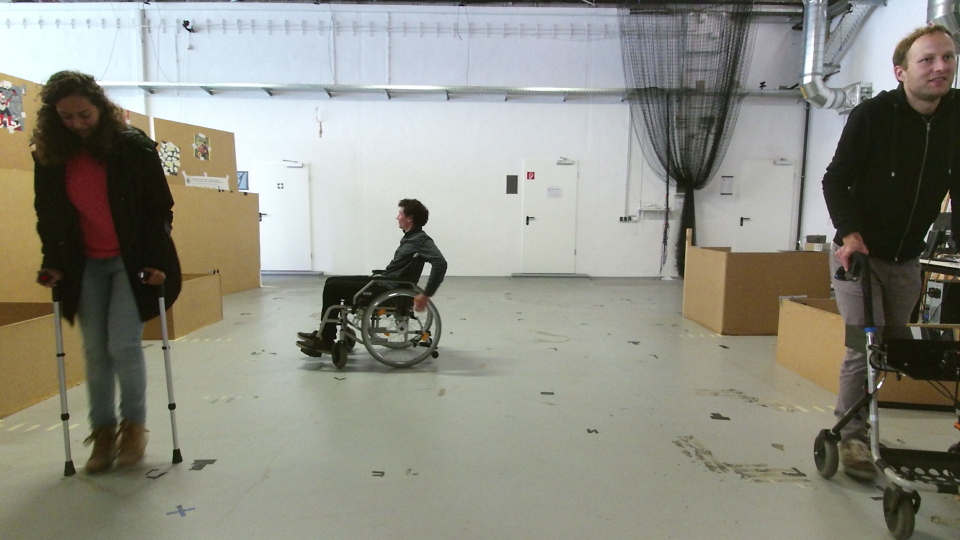crutches: (26, 58, 188, 483)
wheelchair: (290, 191, 453, 379)
